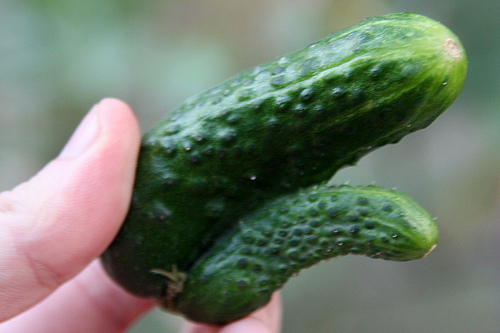cucumber: (100, 12, 467, 299), (182, 182, 440, 321)
